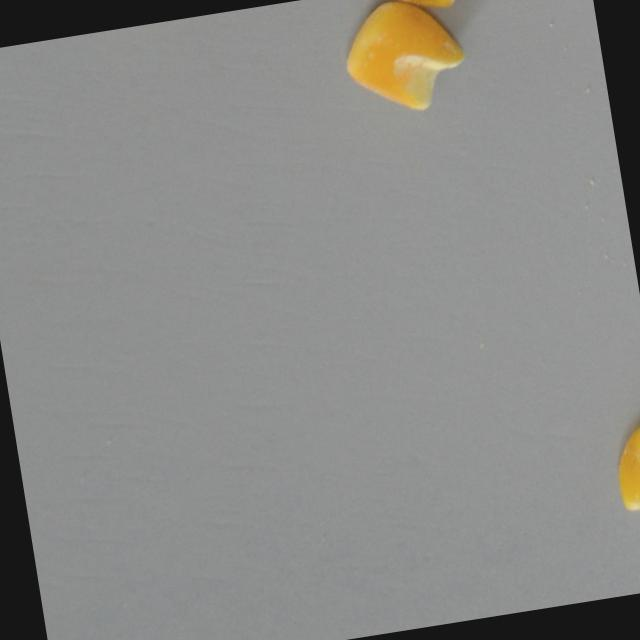no_canjicado: (333, 0, 473, 122), (609, 419, 640, 530)
pelicula: (383, 0, 477, 18)
